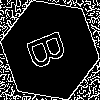B: (25, 24, 77, 72)
